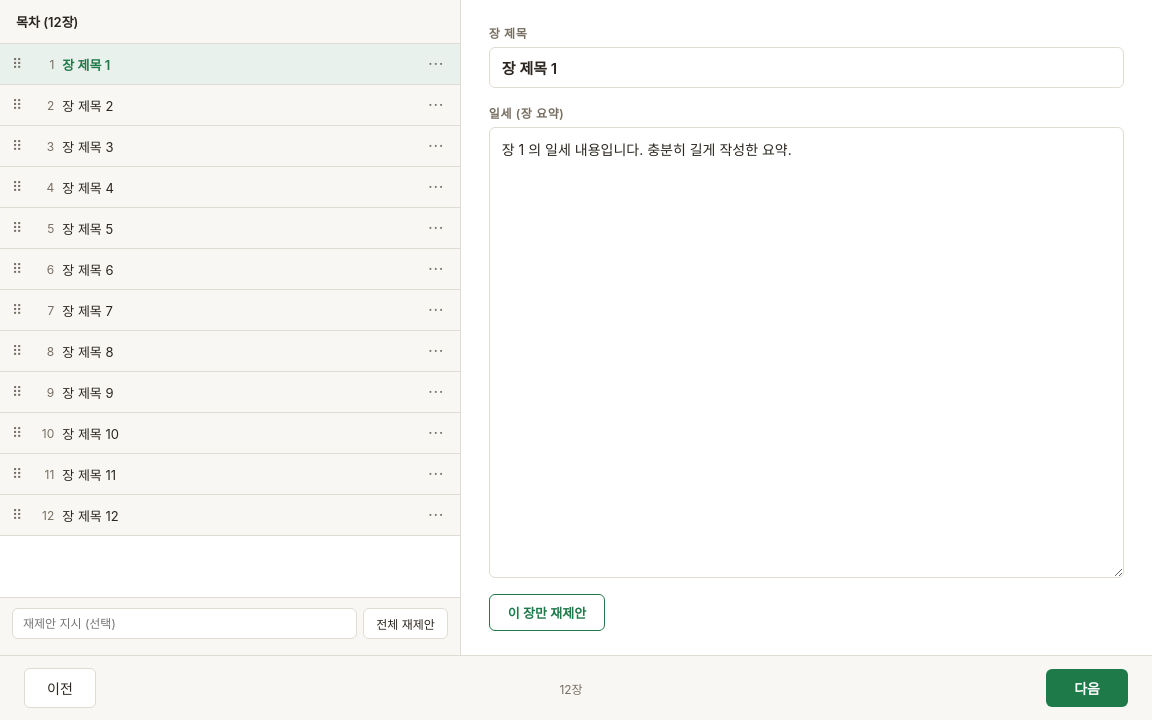
Test: Step4Outline — 시나리오3: title 변경 › title input 변경 시 store.updateChapter 가 반영된다
This screenshot has width=1152, height=720.
Replace the text in the field with test id "step4-chapter-title-input" with "새로운 장 제목" at (806, 68), box [489, 47, 1124, 88]
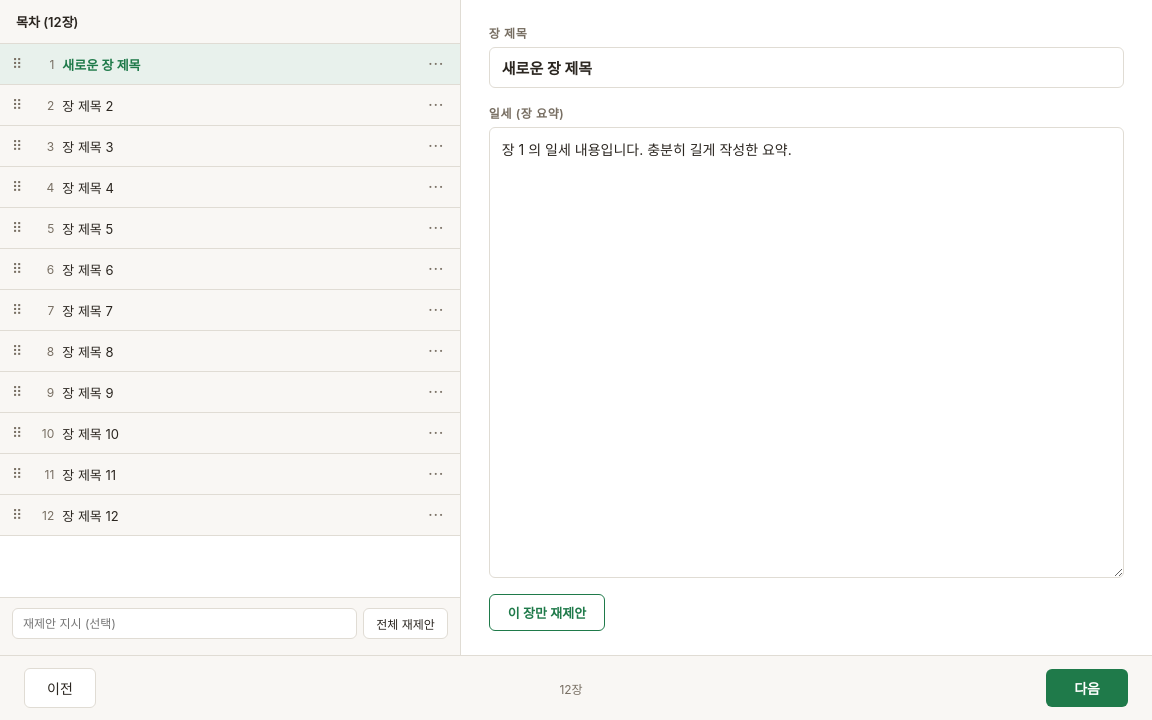
Now the text "새로운 장 제목" is shown, box [62, 56, 141, 72]
